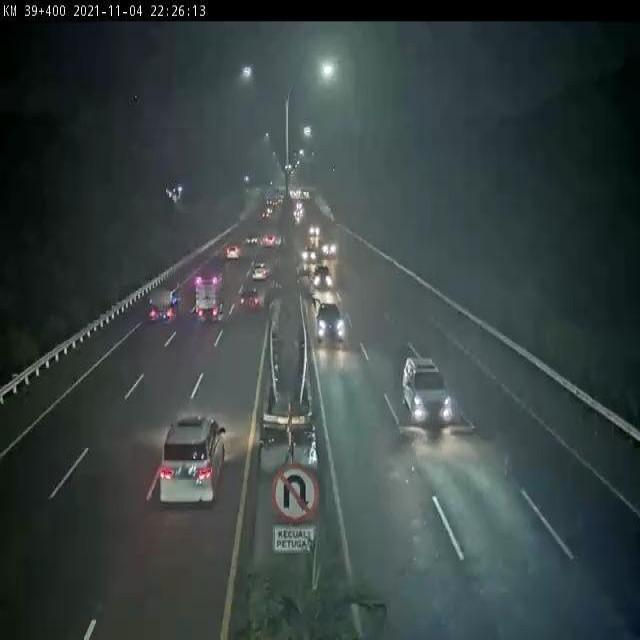car: (147, 404, 220, 527), (376, 340, 455, 419), (313, 299, 355, 340), (239, 277, 270, 324), (310, 260, 336, 289), (225, 240, 237, 269)
truck: (179, 273, 216, 343), (146, 276, 181, 343)
